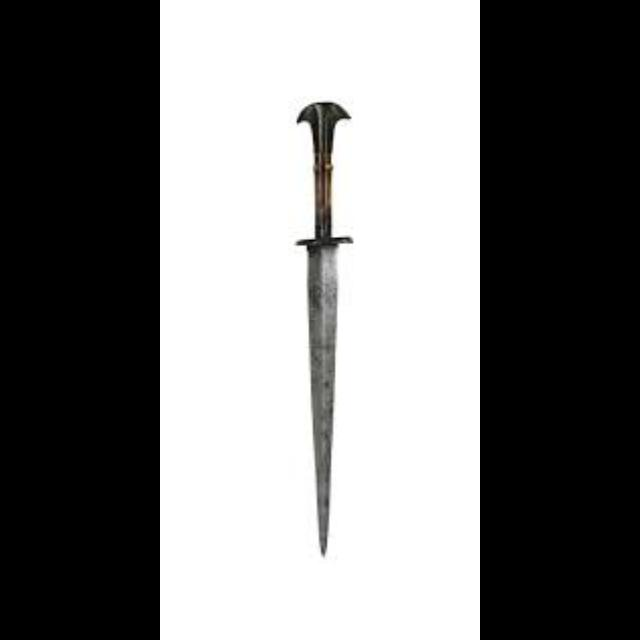knife: (293, 99, 353, 555)
